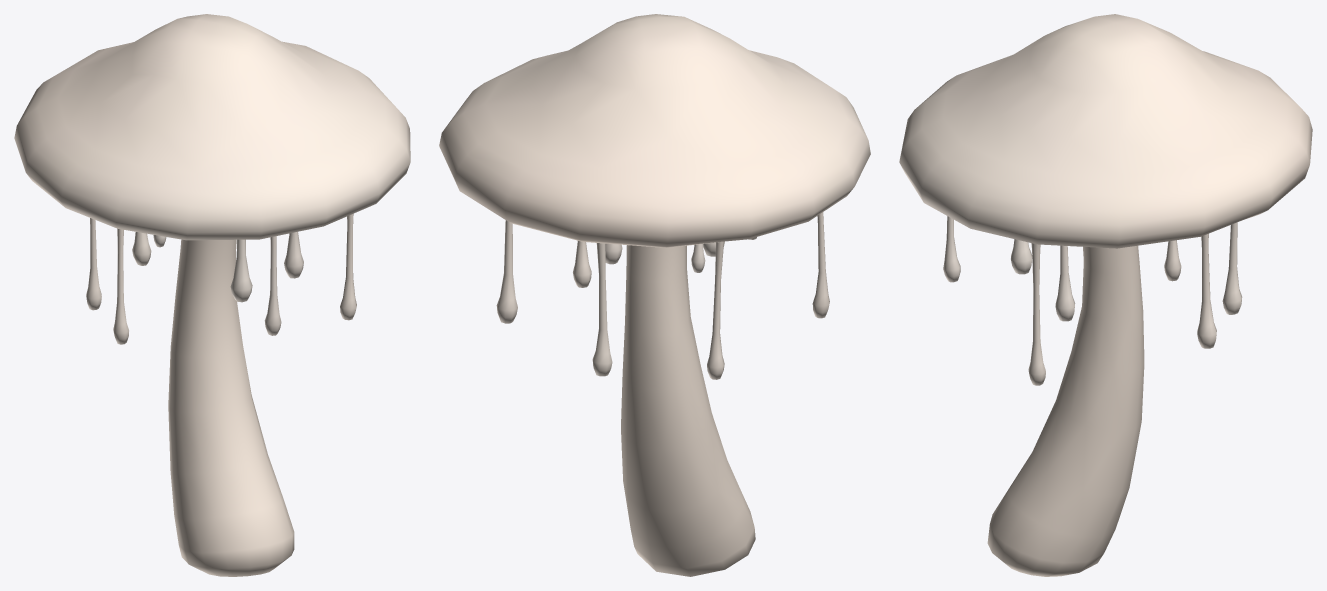
The model's file is mushroom 09.fbx.
The picture shows the model from 3 angles, left to right: view 1: azimuth 30°, elevation 25°; view 2: azimuth 150°, elevation 25°; view 3: azimuth 270°, elevation 25°; orthographic projection. The views are drawn at different scales.
Visible parts, largest first — view 1: Mushroom_0001_0009; view 2: Mushroom_0001_0009; view 3: Mushroom_0001_0009.
Part boxes in pixels (x1,y1,x2,y2): Mushroom_0001_0009: (14,14,410,576); Mushroom_0001_0009: (439,14,870,576); Mushroom_0001_0009: (899,14,1312,576).
Bounding box in the file's own units: 18.27 × 26.56 × 18.47.
Materials: 1 (1 with a texture image).
